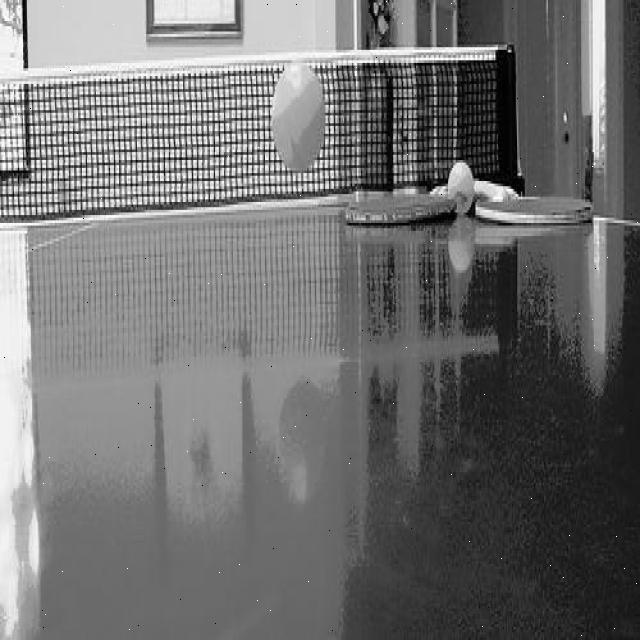ping-pong-ball: (270, 62, 326, 172), (447, 161, 475, 213)
